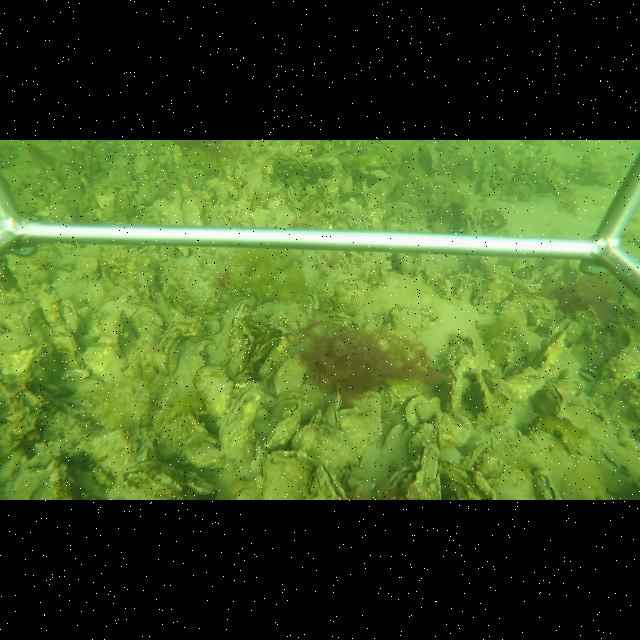Oyster-Closed: (218, 380, 262, 470), (291, 422, 358, 472), (261, 448, 315, 500), (262, 394, 307, 448), (194, 364, 232, 416), (490, 373, 550, 404), (345, 413, 387, 457), (79, 342, 125, 382), (46, 328, 80, 368), (221, 298, 245, 354), (444, 348, 465, 412), (272, 356, 306, 394), (128, 302, 164, 336), (388, 303, 422, 337), (378, 464, 412, 496), (474, 372, 494, 420), (312, 276, 336, 312), (479, 207, 509, 235), (129, 266, 157, 294), (158, 324, 182, 354), (62, 296, 80, 334), (362, 203, 388, 229), (120, 345, 144, 371), (342, 188, 368, 205), (81, 256, 100, 279), (314, 176, 330, 202), (304, 290, 320, 310), (286, 186, 296, 210), (308, 408, 322, 425)
Oyster-Open: (404, 444, 444, 498), (308, 464, 354, 500), (565, 404, 612, 436), (537, 380, 564, 417), (533, 466, 562, 500), (327, 391, 343, 430), (579, 365, 599, 383)
